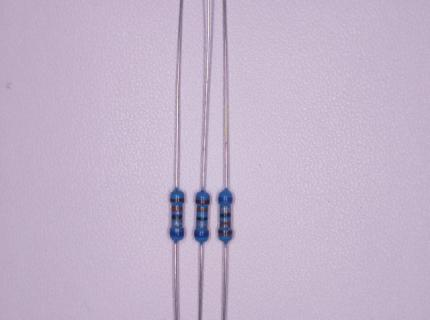Black band: (220, 213, 231, 218), (172, 215, 183, 220), (196, 217, 208, 221)
Blue band: (194, 231, 208, 237), (170, 231, 183, 237), (218, 197, 232, 202)
Brown band: (195, 199, 209, 204), (218, 230, 232, 235), (170, 198, 184, 202)
Grey band: (196, 222, 207, 226), (220, 207, 231, 211), (172, 222, 182, 225)
Orange band: (220, 221, 231, 227), (172, 206, 183, 211), (197, 207, 208, 212)
